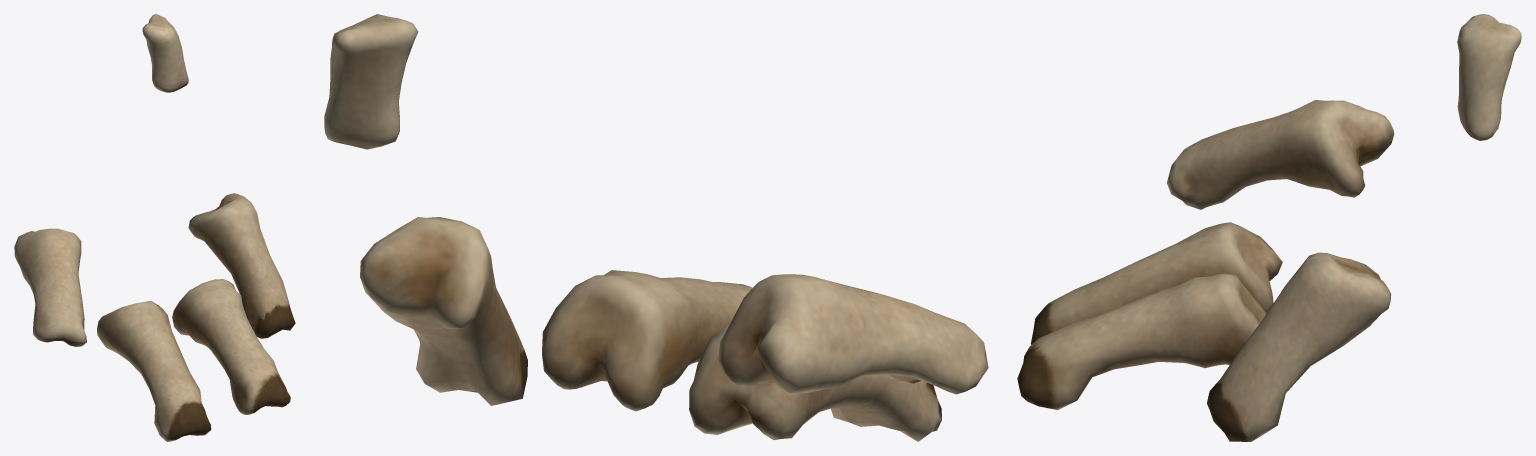
File: Proximal Phalanges.glb
3 views of the same model, side by side, from view 1: azimuth 30°, elevation 25°; view 2: azimuth 150°, elevation 25°; view 3: azimuth 270°, elevation 25° (orthographic). The views are drawn at different scales.
Parts seen in each view (by area): view 1: polySurface30, polySurface29, polySurface28, polySurface31, polySurface27; view 2: polySurface31, polySurface28, polySurface29, polySurface30, polySurface27; view 3: polySurface29, polySurface28, polySurface31, polySurface30, polySurface27.
Boxes of the visible parts, x1,y1,x2,y2 form: polySurface30: (97, 300, 211, 441); polySurface29: (172, 279, 290, 414); polySurface28: (188, 193, 295, 338); polySurface31: (14, 228, 86, 346); polySurface27: (142, 14, 188, 92); polySurface31: (718, 274, 988, 394); polySurface28: (360, 217, 527, 405); polySurface29: (542, 270, 752, 411); polySurface30: (689, 325, 941, 441); polySurface27: (324, 14, 418, 149); polySurface29: (1017, 273, 1266, 409); polySurface28: (1207, 252, 1391, 441); polySurface31: (1167, 100, 1394, 209); polySurface30: (1030, 222, 1282, 344); polySurface27: (1457, 14, 1521, 140).
Bounding box in the file's own units: 43.63 × 44.26 × 47.67.
1 material, 1 textured.
